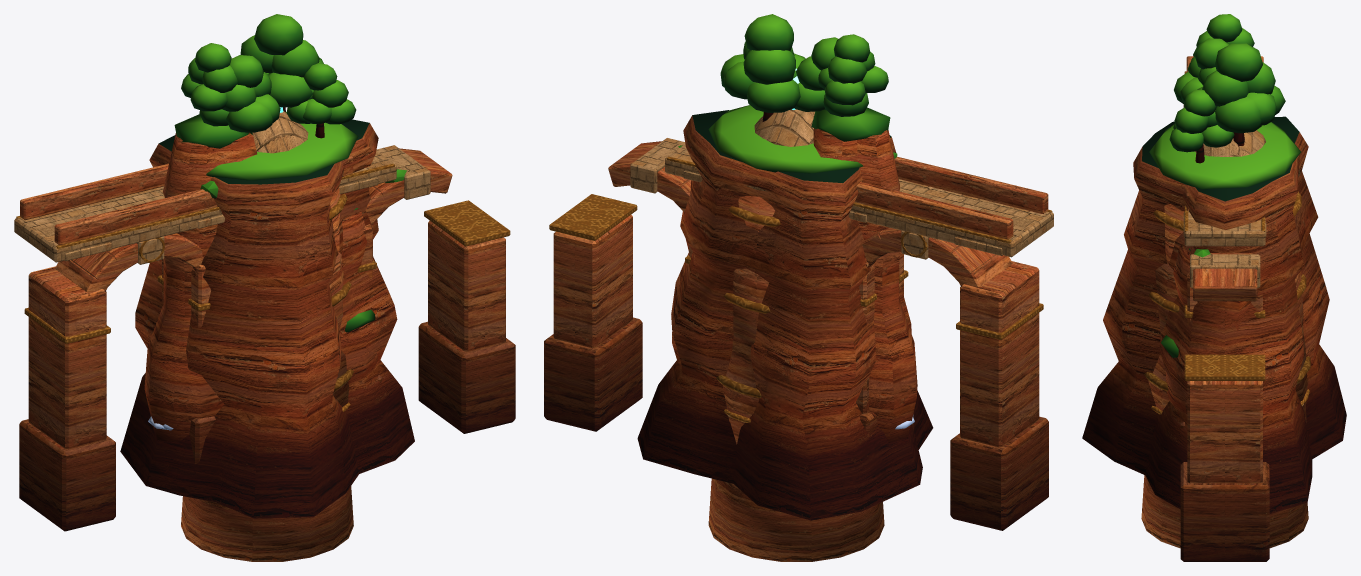
The model's file is env_sky_canyon.glb.
3 renders of one model, left to right at view 1: azimuth 30°, elevation 25°; view 2: azimuth 150°, elevation 25°; view 3: azimuth 270°, elevation 25°, orthographic. The views are drawn at different scales.
Visible parts, largest first — view 1: SeaStack_Mesa_A, Viaduct_SkyBridge, SeaStack_Spire_B, LaunchSanctuary_Deck, ArrivalSpire_Distant; view 2: SeaStack_Mesa_A, Viaduct_SkyBridge, SeaStack_Spire_B, LaunchSanctuary_Deck, ArrivalSpire_Distant; view 3: SeaStack_Mesa_A, Viaduct_SkyBridge, ArrivalSpire_Distant, LaunchSanctuary_Deck, SeaStack_Spire_B.
Boxes of the visible parts, x1=… form: SeaStack_Mesa_A: x1=120, y1=14, x2=414, y2=518; Viaduct_SkyBridge: x1=14, y1=145, x2=515, y2=531; SeaStack_Spire_B: x1=144, y1=43, x2=377, y2=486; LaunchSanctuary_Deck: x1=181, y1=402, x2=353, y2=561; ArrivalSpire_Distant: x1=252, y1=107, x2=353, y2=406; SeaStack_Mesa_A: x1=637, y1=14, x2=933, y2=520; Viaduct_SkyBridge: x1=544, y1=138, x2=1053, y2=530; SeaStack_Spire_B: x1=672, y1=34, x2=920, y2=484; LaunchSanctuary_Deck: x1=708, y1=409, x2=884, y2=561; ArrivalSpire_Distant: x1=716, y1=68, x2=814, y2=444; SeaStack_Mesa_A: x1=1082, y1=38, x2=1346, y2=513; Viaduct_SkyBridge: x1=1180, y1=56, x2=1269, y2=561; ArrivalSpire_Distant: x1=1144, y1=130, x2=1310, y2=422; LaunchSanctuary_Deck: x1=1141, y1=389, x2=1309, y2=548; SeaStack_Spire_B: x1=1166, y1=14, x2=1258, y2=413.
Bounding box in the file's own units: 19.34 × 20.06 × 9.97.
Materials: 8 (4 with a texture image).
